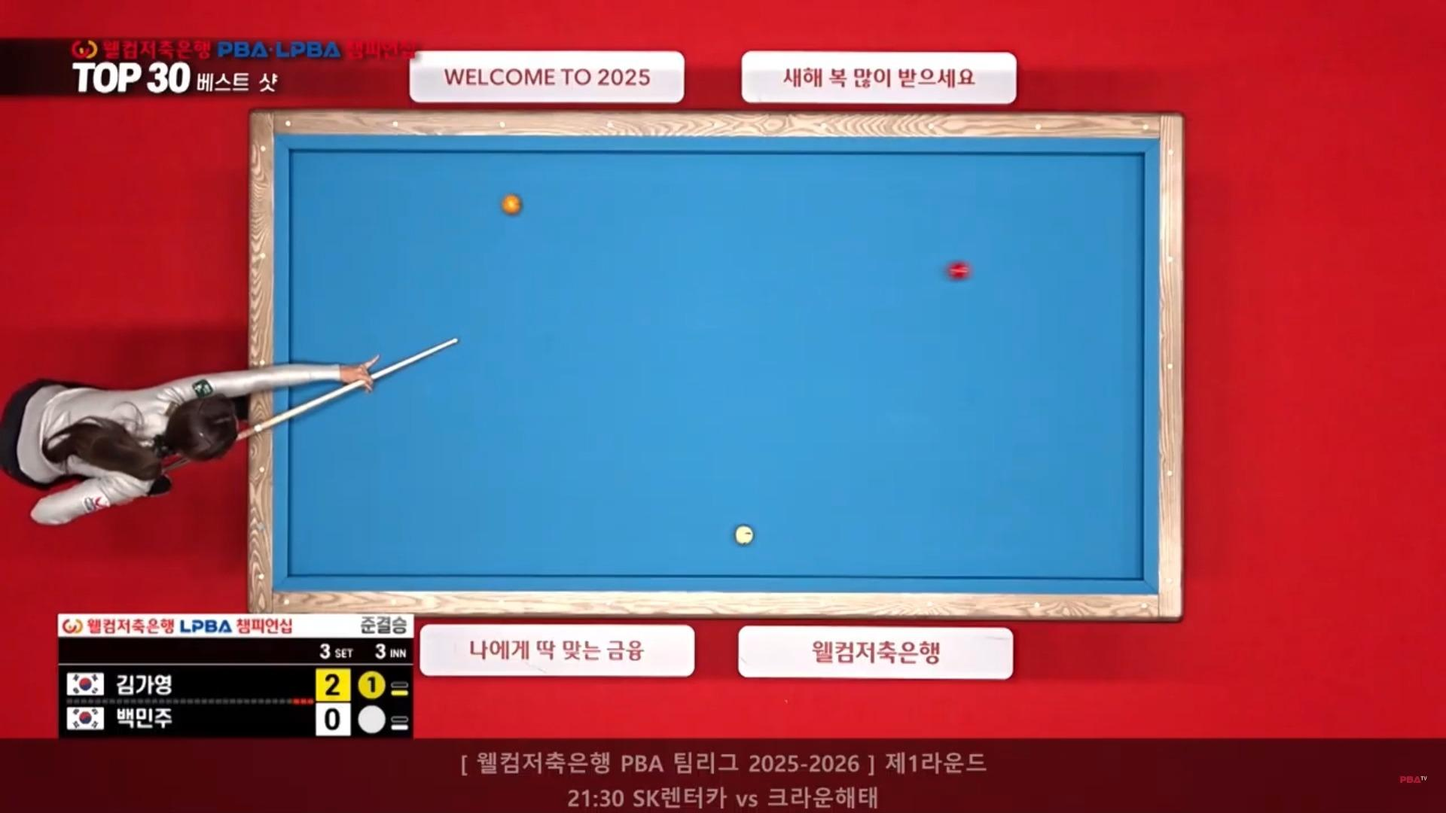Red: (946, 263, 973, 281)
White: (731, 526, 755, 545)
Yellow: (498, 194, 522, 215)
